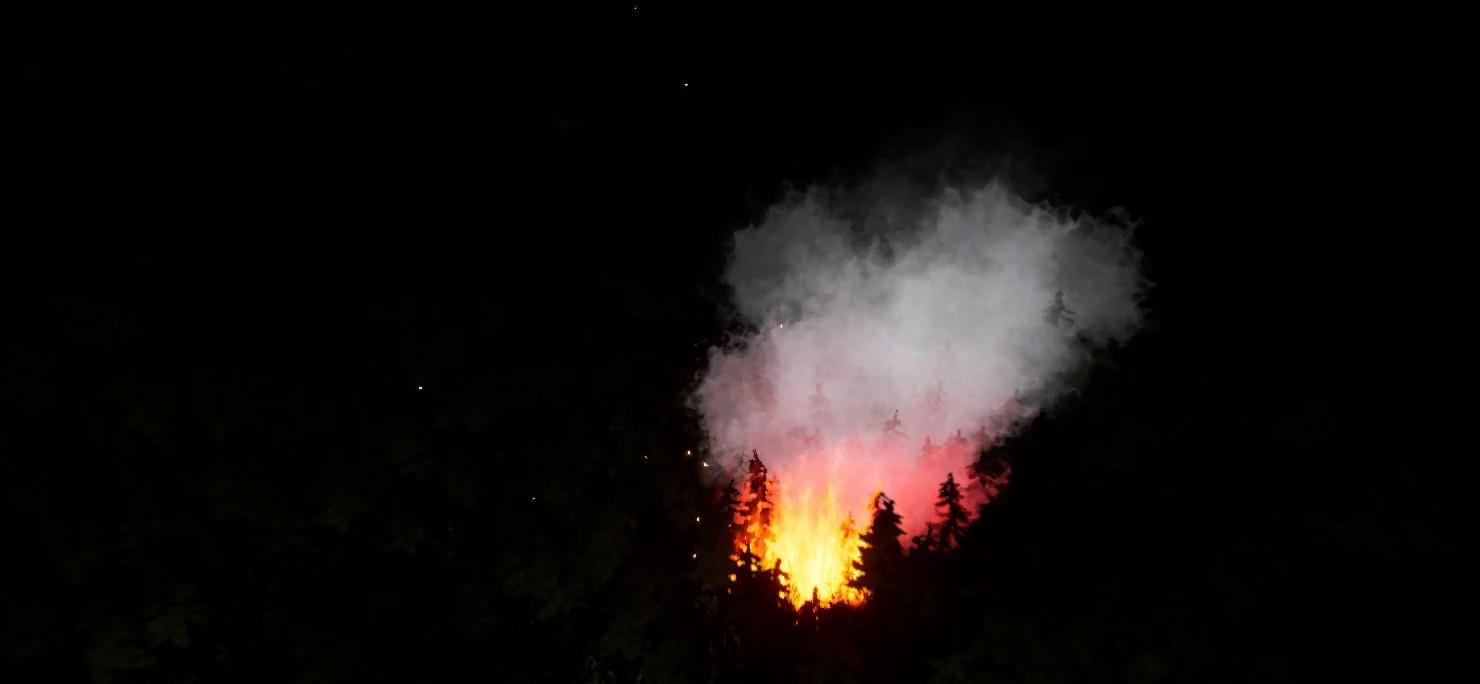fire: (722, 460, 994, 617)
smoke: (686, 168, 1142, 501)
